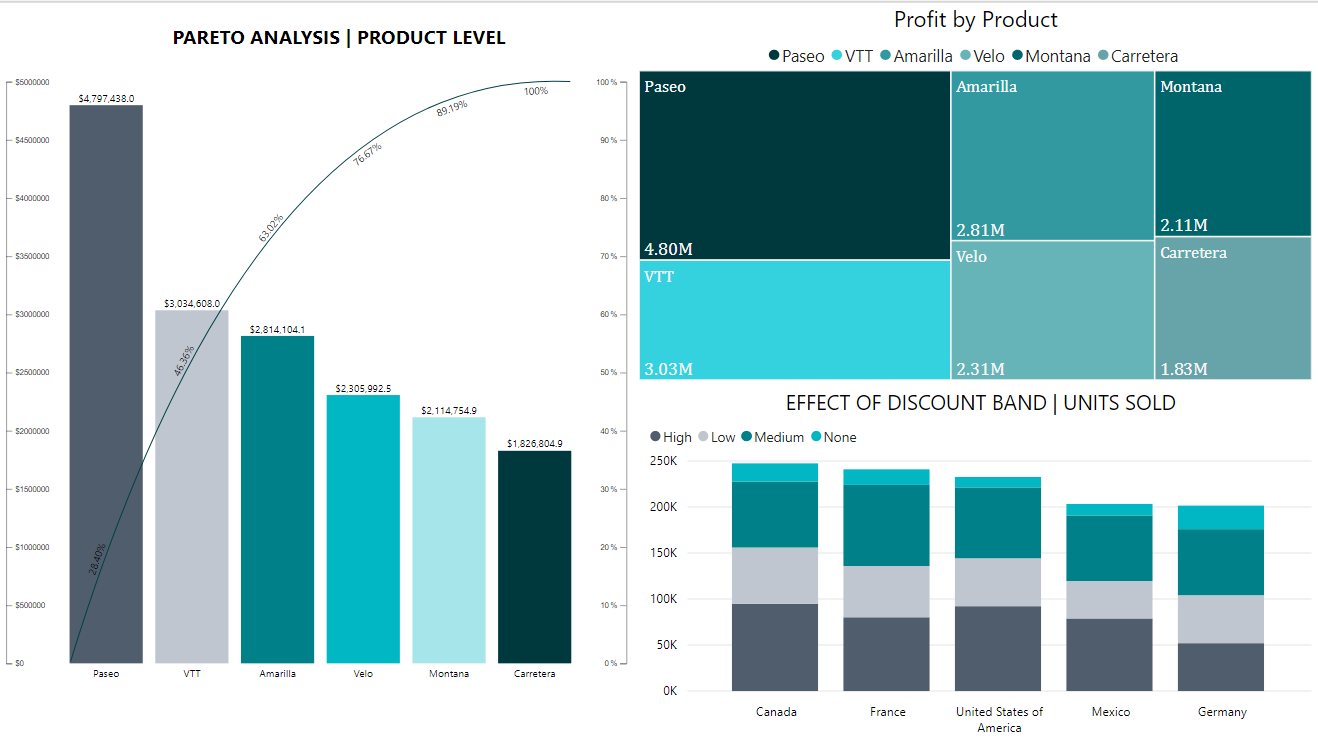

What the dashboard file says about the page in this screenshot:
{"tool":"powerbi","page":{"name":"PARETO","canvas":[1280,720],"ordinal":4},"visuals":[{"type":"paretoEDD8E69761BA4B7BB3AA6D813990D7BF","fields":{"paretoValues":["Sum(financials.Profit)"],"paretoCategories":["financials.Product"]},"box":[0,55.5,617.5,636.8],"z":0},{"type":"textbox","box":[152,14.5,358.2,41],"z":1000},{"type":"treemap","fields":{"Group":["financials.Product"],"Values":["Sum(financials.Profit)"]},"box":[617.5,0,662.1,370.3],"z":2000},{"type":"lineStackedColumnComboChart","title":"EFFECT OF DISCOUNT BAND | UNITS SOLD","fields":{"Category":["financials.Country"],"Y":["Sum(financials.Units Sold)"],"Series":["financials.Discount Band Hierarchy.Discount Band"]},"box":[627.1,373.9,652.5,346.1],"z":3000}]}

Visuals, with their boxes in screenshot pixels (x1, y1, x2, y2), scaled from the page's 1280x720 canvas onto the 1318x739 screenshot:
paretoEDD8E69761BA4B7BB3AA6D813990D7BF - Sum(financials.Profit) x financials.Product: <region>0, 57, 636, 711</region>
textbox: <region>157, 15, 525, 57</region>
treemap - financials.Product x Sum(financials.Profit): <region>636, 0, 1317, 380</region>
"EFFECT OF DISCOUNT BAND | UNITS SOLD" lineStackedColumnComboChart: <region>646, 384, 1317, 738</region>
